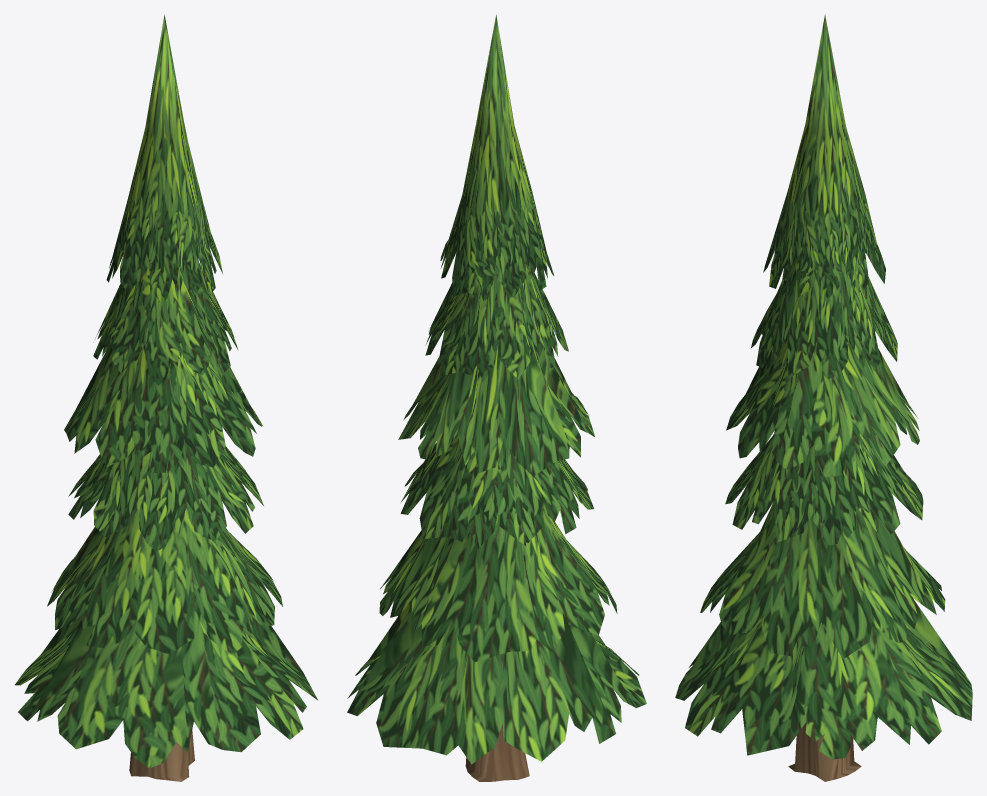
Rendered from VEG0210005.fbx.
3 renders of one model, left to right at view 1: azimuth 30°, elevation 25°; view 2: azimuth 150°, elevation 25°; view 3: azimuth 270°, elevation 25°, orthographic.
Parts seen in each view (by area): view 1: smVEG0210005; view 2: smVEG0210005; view 3: smVEG0210005.
Part boxes in pixels (x1=…): smVEG0210005: x1=15, y1=14, x2=317, y2=781; smVEG0210005: x1=347, y1=15, x2=646, y2=781; smVEG0210005: x1=675, y1=14, x2=972, y2=781.
Bounding box in the file's own units: 301 × 841 × 301.
Materials: 1 (1 with a texture image).
